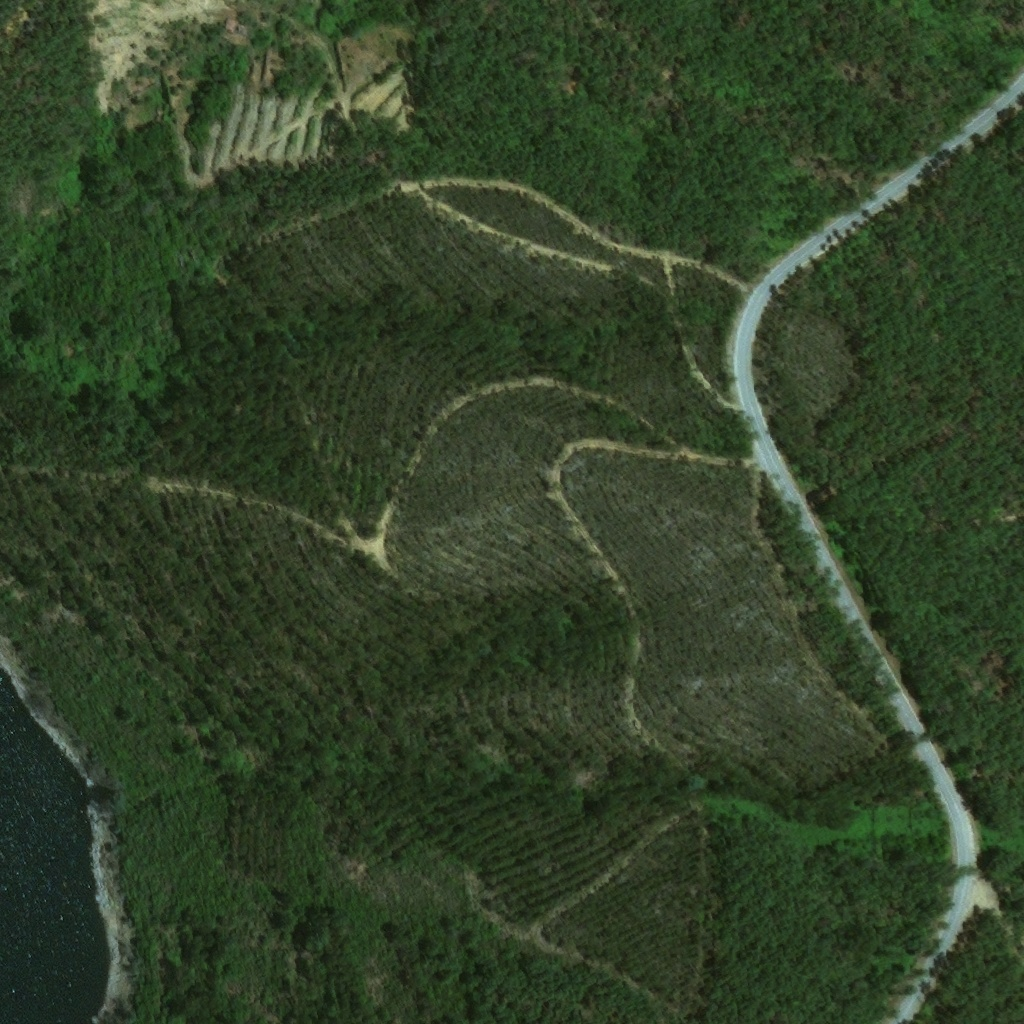0 no-damage: (224, 17, 237, 32)
